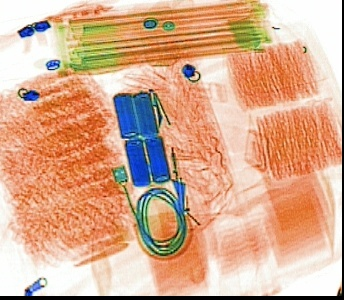powerbank: (112, 86, 176, 197)
